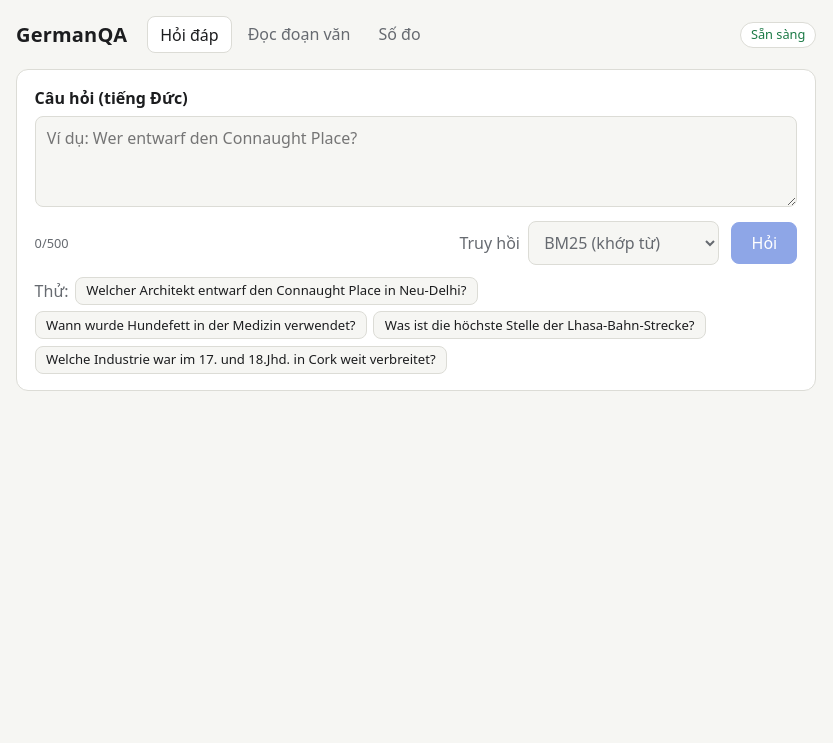
Test: hỏi đáp › không tìm thấy đáp án (no_valid_span) không hiện đoạn nguồn giả
The image size is (833, 743).
Expected: the button "Hỏi" is disabled, [731,222,797,264]
Type "Frage" into the text box labelled "Câu hỏi (tiếng Đức)" at (416,162), box [35,116,797,207]
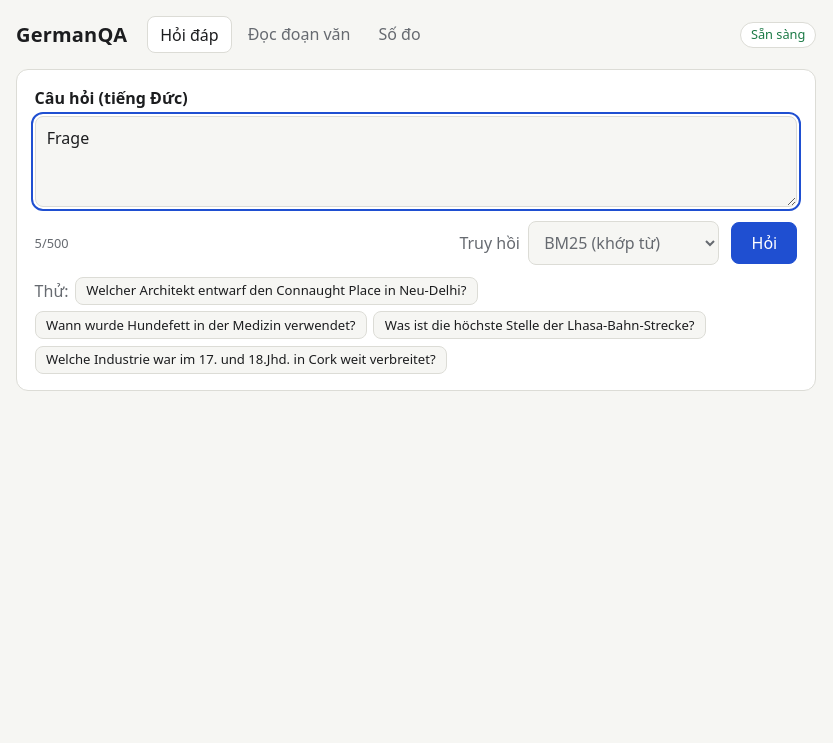
Click the button "Hỏi" at (764,243), box [731,222,797,264]
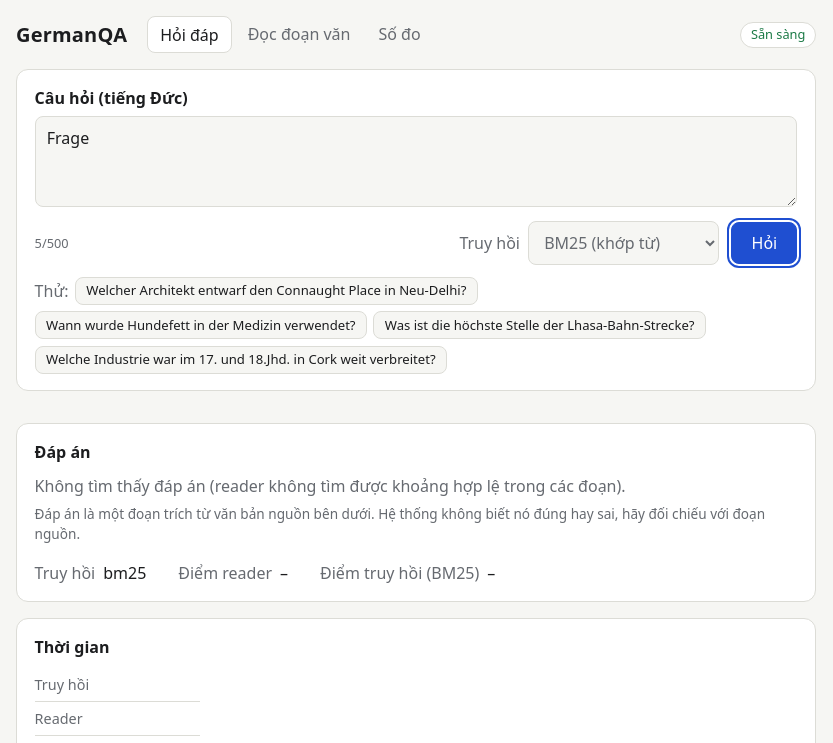
Now the text "Không tìm thấy đáp án" is shown, box [35,474,215,496]
